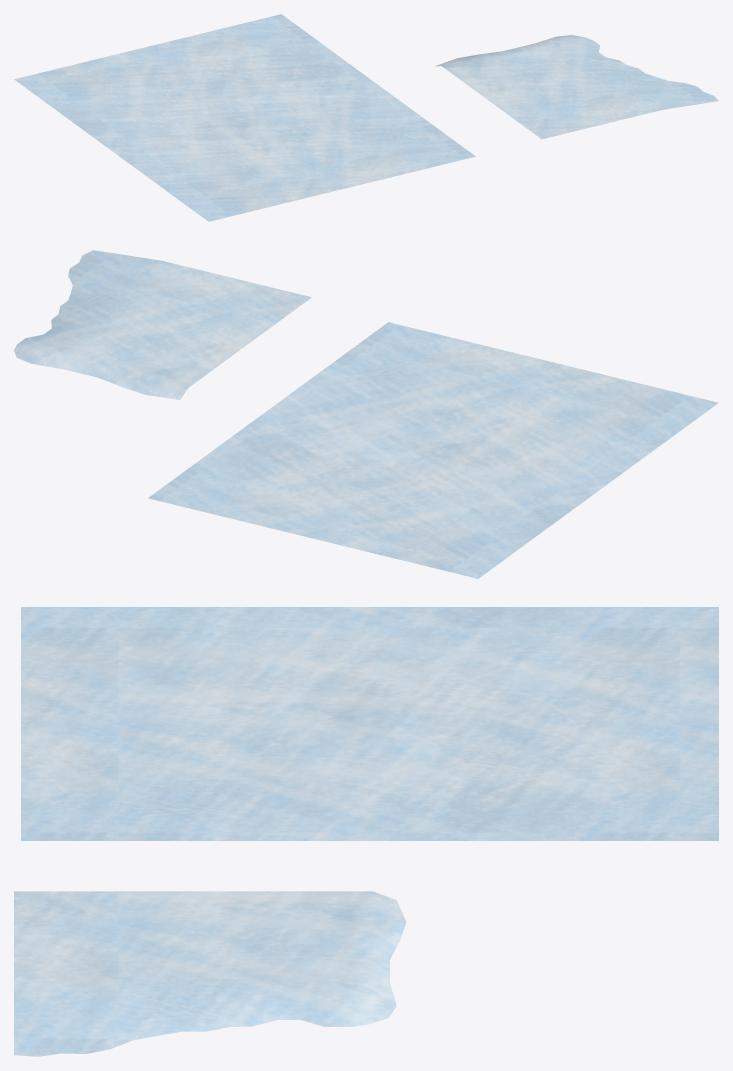
Rendered from Frozen Ground - Level 1.FBX.
3 views of the same model, one above another, from view 1: azimuth 30°, elevation 25°; view 2: azimuth 150°, elevation 25°; view 3: azimuth 270°, elevation 25° (orthographic). The views are drawn at different scales.
Parts seen in each view (by area): view 1: Frozen Ground; view 2: Frozen Ground; view 3: Frozen Ground.
Boxes of the visible parts, x1,y1,x2,y2 form: Frozen Ground: (14, 14, 718, 221); Frozen Ground: (14, 250, 718, 578); Frozen Ground: (14, 607, 718, 1056).
Size of the model in its own units: 651 by 6.08 by 435.
1 material, 1 textured.
